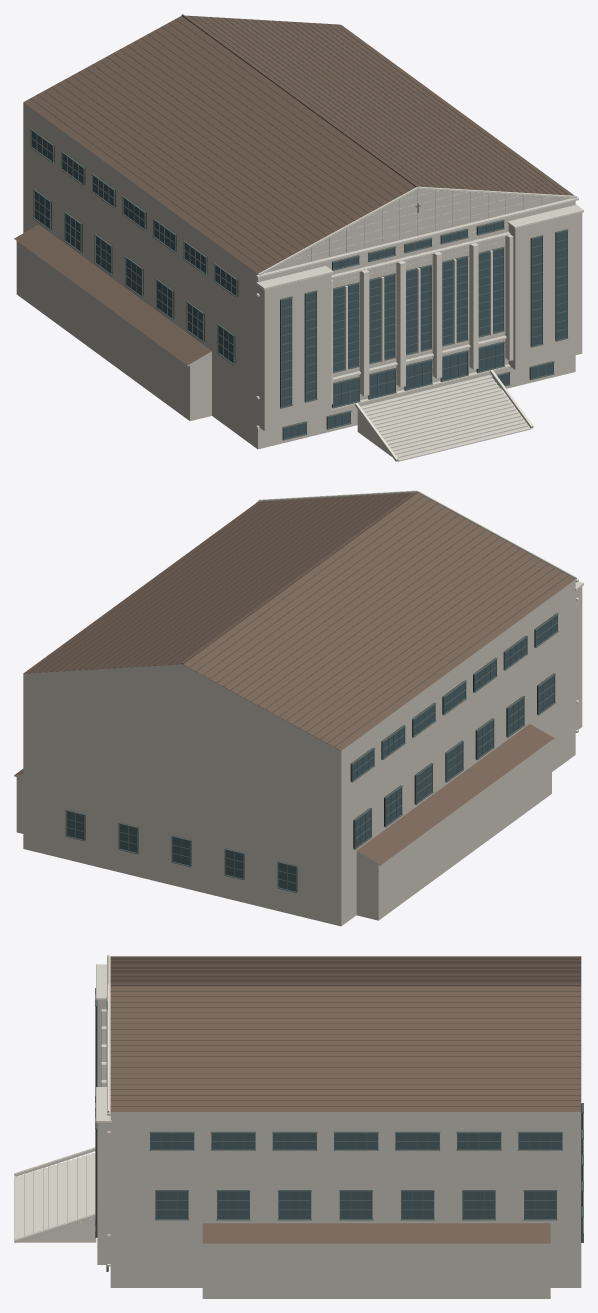
3 renders of one model, top to bottom at view 1: azimuth 30°, elevation 25°; view 2: azimuth 150°, elevation 25°; view 3: azimuth 270°, elevation 25°, orthographic.
Parts seen in each view (by area): view 1: long_gable_roof__roof, main_auditorium_body__stone, front_side_pavilions__stone, roof_seams__roofline, low_side_annex__stone, front_tall_window_pairs__glass, entry_steps__trim, front_pediment__stone, front_pilasters__trim, low_side_shed_roof__roof, pavilion_vertical_windows__glass, front_horizontal_moulding__trim (+17 smaller); view 2: main_auditorium_body__stone, long_gable_roof__roof, roof_seams__roofline, low_side_annex__stone, rear_pediment_estimated__stone, low_side_shed_roof__roof, side_lower_windows__glass, side_upper_window_ribbon__glass, rear_windows_estimated__glass, side_lower_windows__frame, side_upper_window_ribbon__frame, rear_windows_estimated__frame (+3 smaller); view 3: long_gable_roof__roof, main_auditorium_body__stone, roof_seams__roofline, low_side_annex__stone, low_side_shed_roof__roof, side_lower_windows__glass, entry_steps__trim, side_upper_window_ribbon__glass, side_lower_windows__frame, side_upper_window_ribbon__frame, front_side_pavilions__stone, ridge_cap__roof (+6 smaller).
Boxes of the visible parts, <box> form: long_gable_roof__roof: <box>23,15,574,273</box>; main_auditorium_body__stone: <box>23,102,575,449</box>; front_side_pavilions__stone: <box>258,213,582,430</box>; roof_seams__roofline: <box>30,16,567,269</box>; low_side_annex__stone: <box>16,241,211,420</box>; front_tall_window_pairs__glass: <box>333,249,503,371</box>; entry_steps__trim: <box>357,375,530,461</box>; front_pediment__stone: <box>266,189,570,272</box>; front_pilasters__trim: <box>331,234,513,404</box>; low_side_shed_roof__roof: <box>14,224,211,365</box>; pavilion_vertical_windows__glass: <box>281,231,566,406</box>; front_horizontal_moulding__trim: <box>256,197,578,428</box>; main_auditorium_body__stone: <box>23,579,575,926</box>; long_gable_roof__roof: <box>23,492,575,750</box>; roof_seams__roofline: <box>30,492,568,746</box>; low_side_annex__stone: <box>16,740,551,920</box>; rear_pediment_estimated__stone: <box>24,664,340,750</box>; low_side_shed_roof__roof: <box>14,724,554,864</box>; side_lower_windows__glass: <box>355,676,554,847</box>; side_upper_window_ribbon__glass: <box>353,616,556,780</box>; rear_windows_estimated__glass: <box>67,811,295,891</box>; side_lower_windows__frame: <box>353,673,555,849</box>; side_upper_window_ribbon__frame: <box>351,613,558,782</box>; rear_windows_estimated__frame: <box>65,809,297,892</box>; long_gable_roof__roof: <box>110,956,581,1111</box>; main_auditorium_body__stone: <box>110,1112,581,1287</box>; roof_seams__roofline: <box>111,957,580,1106</box>; low_side_annex__stone: <box>202,1243,550,1298</box>; low_side_shed_roof__roof: <box>202,1223,550,1243</box>; side_lower_windows__glass: <box>156,1191,556,1218</box>; entry_steps__trim: <box>14,1153,96,1242</box>; side_upper_window_ribbon__glass: <box>150,1133,561,1149</box>; side_lower_windows__frame: <box>155,1190,557,1220</box>; side_upper_window_ribbon__frame: <box>149,1131,562,1150</box>; front_side_pavilions__stone: <box>97,1000,110,1264</box>; ridge_cap__roof: <box>110,984,581,986</box>.
Size of the model in its own units: 41.6 by 24.33 by 55.7.
